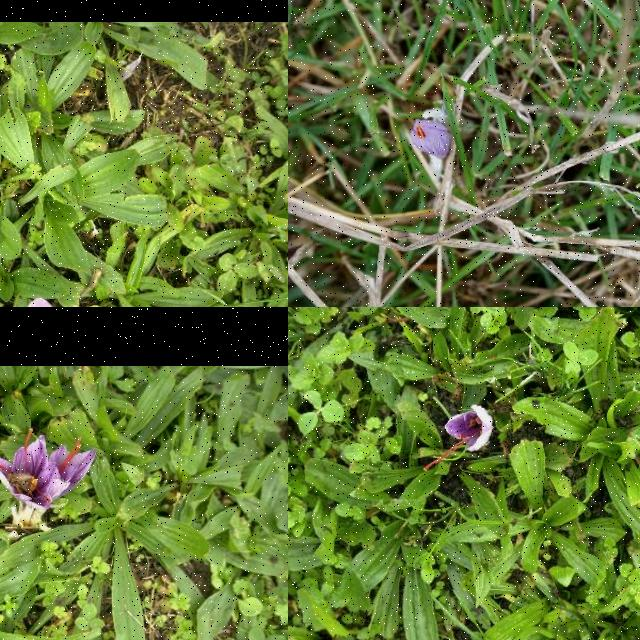flower: (422, 404, 493, 474), (411, 119, 453, 159)
overlap: (0, 428, 97, 510)
